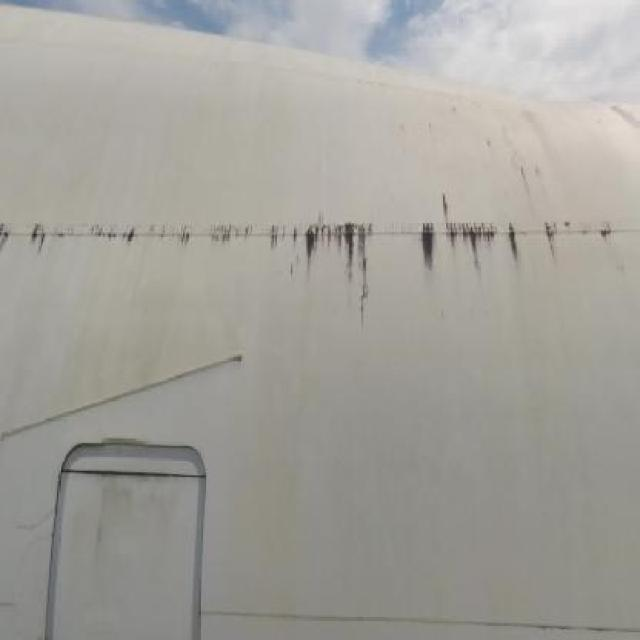Rust: (1, 194, 632, 320), (476, 117, 590, 218)
Scartch: (88, 473, 192, 572)
